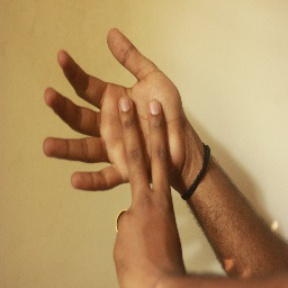N: (35, 24, 198, 246)
